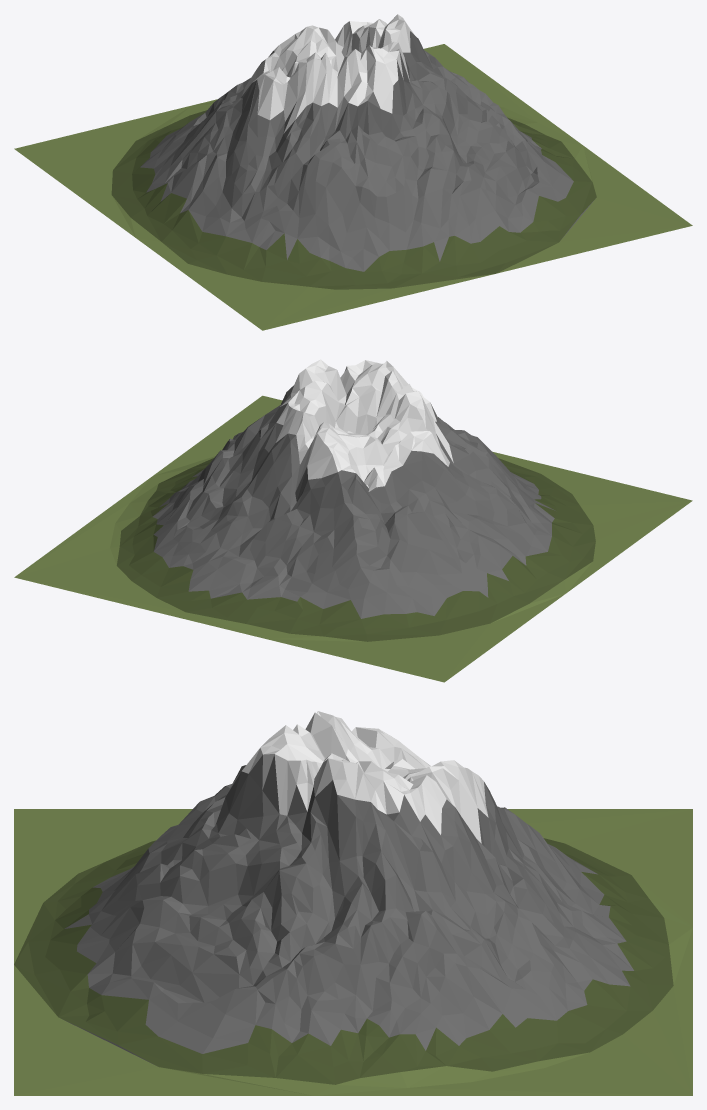
Rendered from Terrain_02.fbx.
3 renders of one model, top to bottom at view 1: azimuth 30°, elevation 25°; view 2: azimuth 150°, elevation 25°; view 3: azimuth 270°, elevation 25°, orthographic. The views are drawn at different scales.
Visible parts, largest first — view 1: Terrain_02; view 2: Terrain_02; view 3: Terrain_02.
Boxes of the visible parts, x1,y1,x2,y2 form: Terrain_02: (14,14,692,330); Terrain_02: (14,359,692,682); Terrain_02: (14,711,692,1095).
Size of the model in its own units: 20000 by 7222 by 20000.
